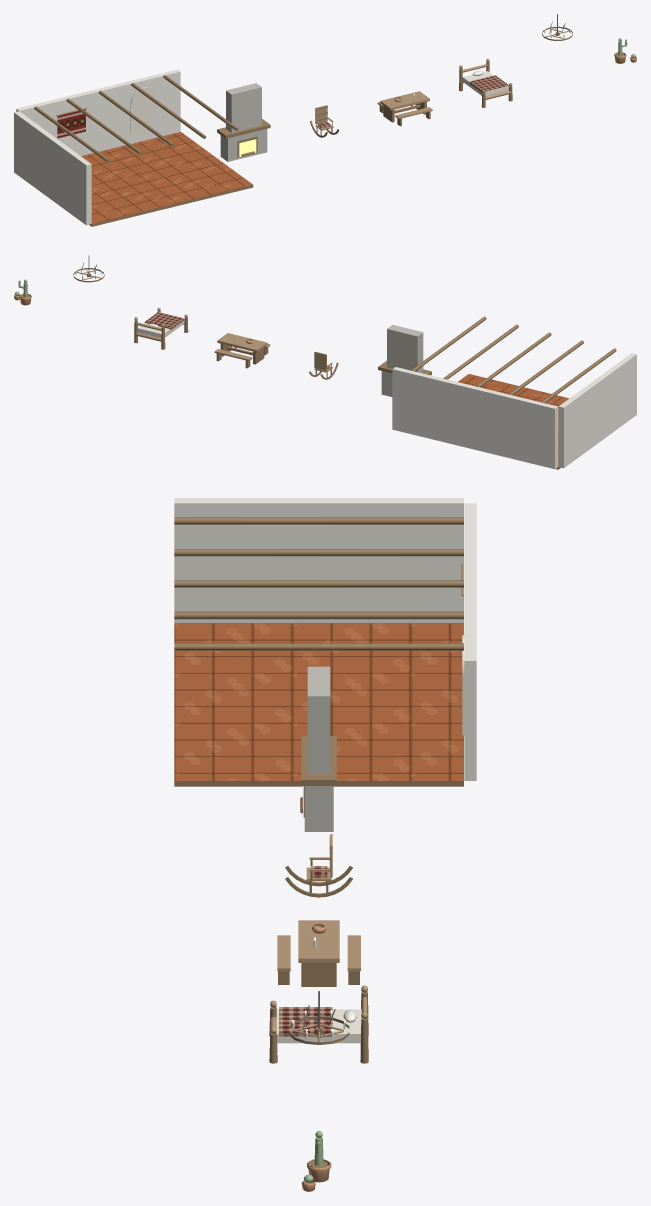
The model's file is kit-29-interior-amerika.glb.
3 views of the same model, one above another, from view 1: azimuth 30°, elevation 25°; view 2: azimuth 150°, elevation 25°; view 3: azimuth 270°, elevation 25° (orthographic). The views are drawn at different scales.
Parts seen in each view (by area): view 1: AmerikaIn_RuangHacienda, AmerikaIn_PerapianBatu, AmerikaIn_TempatTidurKabin, AmerikaIn_MejaKasar, AmerikaIn_KursiGoyang; view 2: AmerikaIn_RuangHacienda, AmerikaIn_PerapianBatu, AmerikaIn_MejaKasar, AmerikaIn_TempatTidurKabin, AmerikaIn_KursiGoyang; view 3: AmerikaIn_RuangHacienda, AmerikaIn_PerapianBatu, AmerikaIn_MejaKasar, AmerikaIn_TempatTidurKabin, AmerikaIn_KursiGoyang, AmerikaIn_LampuRoda.
Part boxes in pixels (x1,y1,x2,y2): AmerikaIn_RuangHacienda: (14,69,253,226); AmerikaIn_PerapianBatu: (217,83,270,161); AmerikaIn_TempatTidurKabin: (459,59,512,107); AmerikaIn_MejaKasar: (377,91,432,126); AmerikaIn_KursiGoyang: (310,105,338,137); AmerikaIn_RuangHacienda: (392,316,636,469); AmerikaIn_PerapianBatu: (378,325,431,396); AmerikaIn_MejaKasar: (214,333,270,368); AmerikaIn_TempatTidurKabin: (134,308,188,349); AmerikaIn_KursiGoyang: (309,351,338,379); AmerikaIn_RuangHacienda: (174,498,476,786); AmerikaIn_PerapianBatu: (300,666,336,831); AmerikaIn_MejaKasar: (277,920,360,986); AmerikaIn_TempatTidurKabin: (269,985,368,1063); AmerikaIn_KursiGoyang: (285,834,352,897); AmerikaIn_LampuRoda: (288,991,349,1044).
Size of the model in its own units: 32.58 by 3.5 by 7.31.
Materials: 13 (3 with a texture image).
